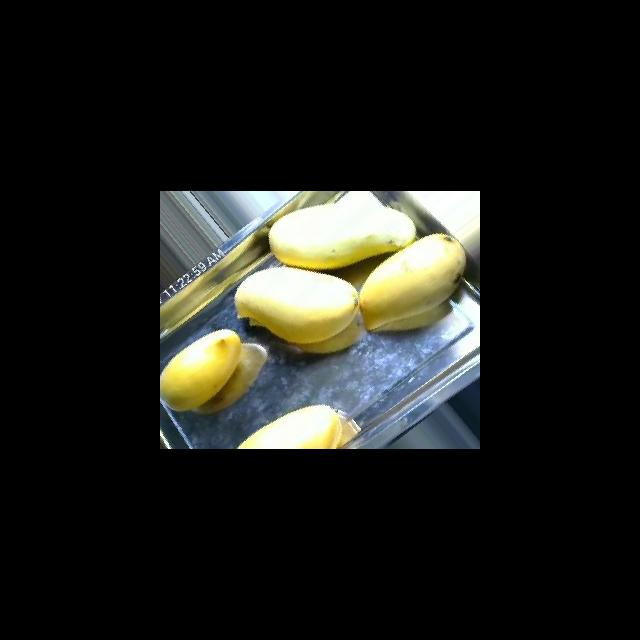Mango: (267, 191, 416, 270), (358, 232, 466, 332), (234, 265, 359, 344)
